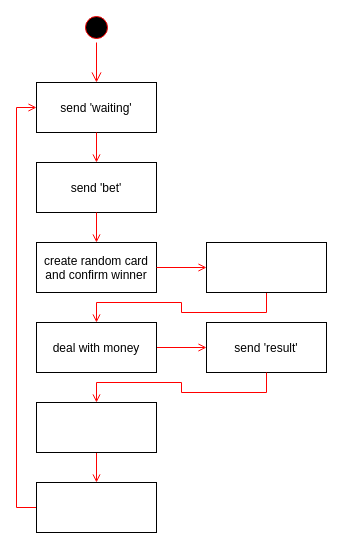
Image size: 343x549. Some labels were removed from this diagram. The shapes that lost their labels are listed below. From the top down, each one's box as (x1, y1, x2, y2) in pixels, then its label:
(206, 242, 326, 292): sned 'betEnd' and game result
(36, 402, 156, 452): send 'round end'
(36, 482, 156, 532): reset game data
